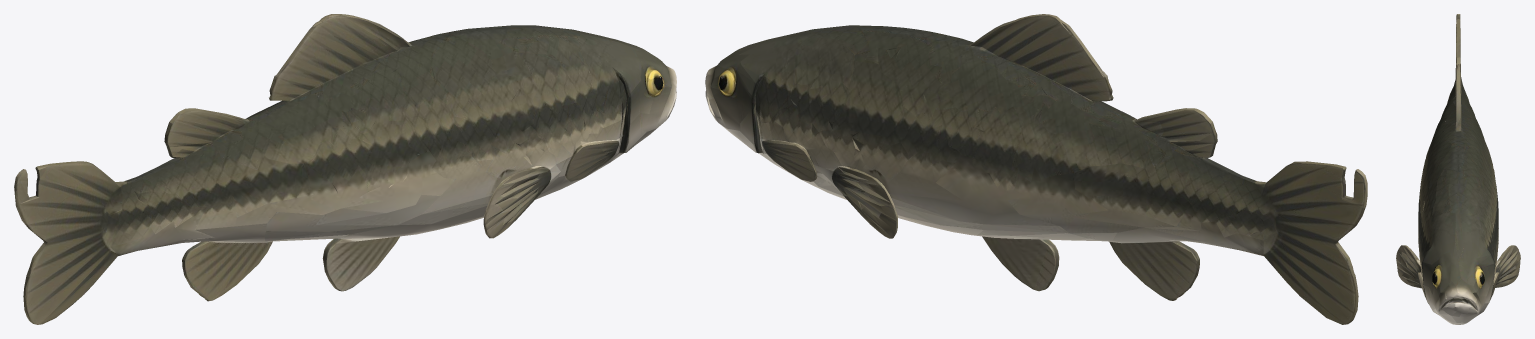
The model's file is creek_chub.glb.
3 views of the same model, side by side, from view 1: azimuth 30°, elevation 25°; view 2: azimuth 150°, elevation 25°; view 3: azimuth 270°, elevation 25° (orthographic). The views are drawn at different scales.
Visible parts, largest first — view 1: fish; view 2: fish; view 3: fish.
Boxes of the visible parts, x1,y1,x2,y2 form: fish: (14,14,676,324); fish: (705,14,1367,324); fish: (1396,14,1520,324).
Bounding box in the file's own units: 1 × 0.404 × 0.2199.
1 material, 1 textured.
